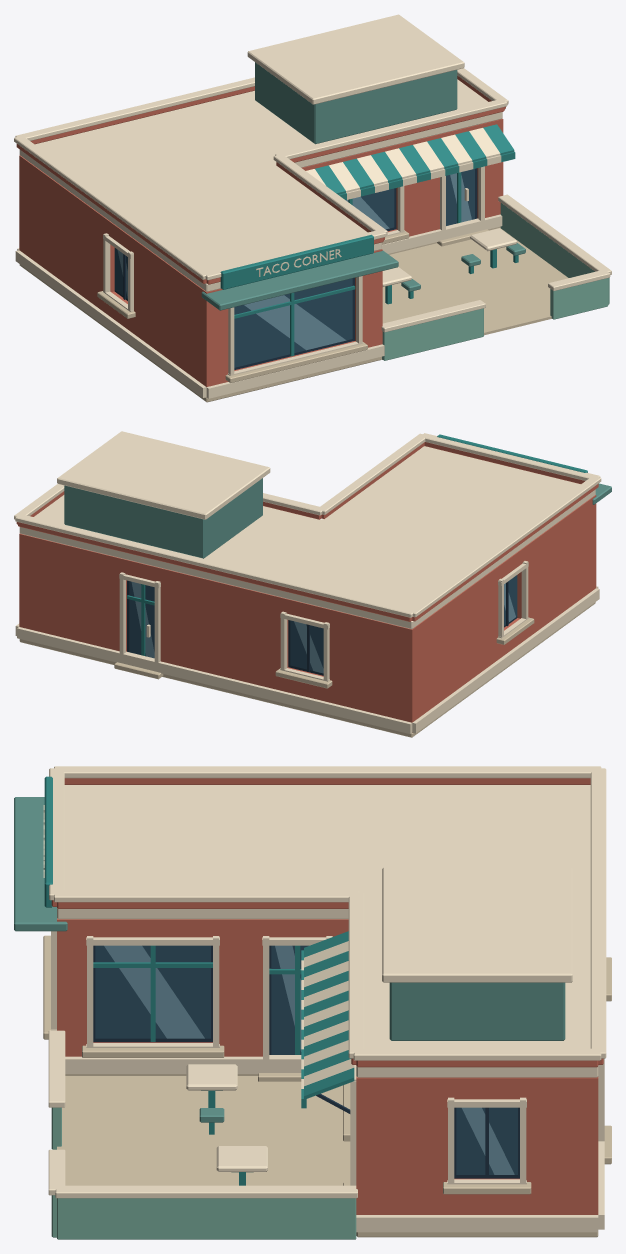
Rendered from taco_corner.glb.
3 views of the same model, one above another, from view 1: azimuth 30°, elevation 25°; view 2: azimuth 150°, elevation 25°; view 3: azimuth 270°, elevation 25° (orthographic). The views are drawn at different scales.
Parts seen in each view (by area): view 1: TacoCorner_StaticMesh; view 2: TacoCorner_StaticMesh; view 3: TacoCorner_StaticMesh.
Boxes of the visible parts, x1,y1,x2,y2 form: TacoCorner_StaticMesh: (14,14,611,402); TacoCorner_StaticMesh: (14,431,611,737); TacoCorner_StaticMesh: (14,766,611,1239).
Size of the model in its own units: 12.07 by 4.66 by 10.38.
